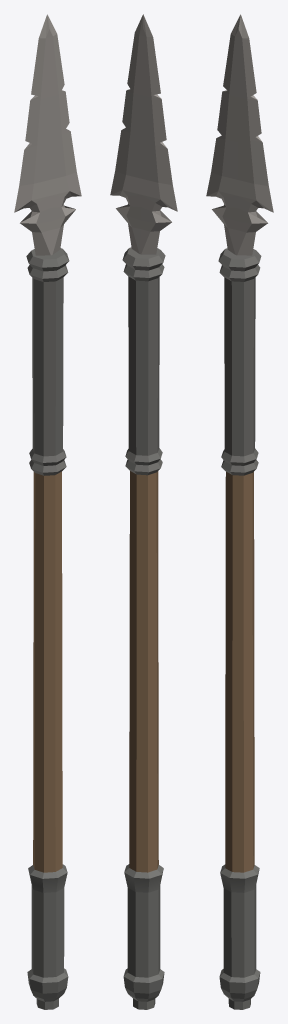
Rendered from SM_pwe_fantasy_spear_08.fbx.
3 views of the same model, side by side, from view 1: azimuth 30°, elevation 25°; view 2: azimuth 150°, elevation 25°; view 3: azimuth 330°, elevation 25° (orthographic).
Visible parts, largest first — view 1: SM_pwe_fantasy_spear_08; view 2: SM_pwe_fantasy_spear_08; view 3: SM_pwe_fantasy_spear_08.
Part boxes in pixels (x1,y1,x2,y2): SM_pwe_fantasy_spear_08: (14,14,81,1009); SM_pwe_fantasy_spear_08: (110,14,177,1009); SM_pwe_fantasy_spear_08: (206,14,273,1009).
Bounding box in the file's own units: 11.48 × 161 × 6.56.
